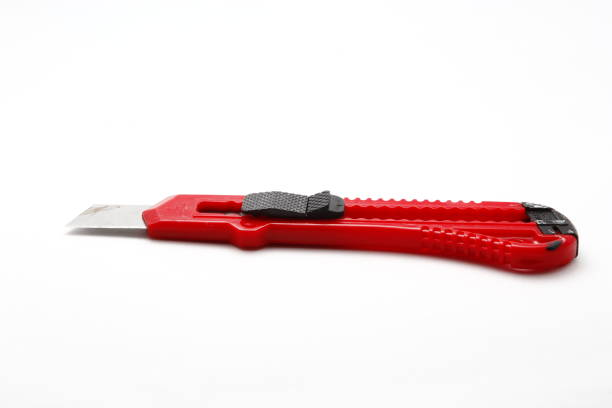knife: (56, 191, 581, 273)
